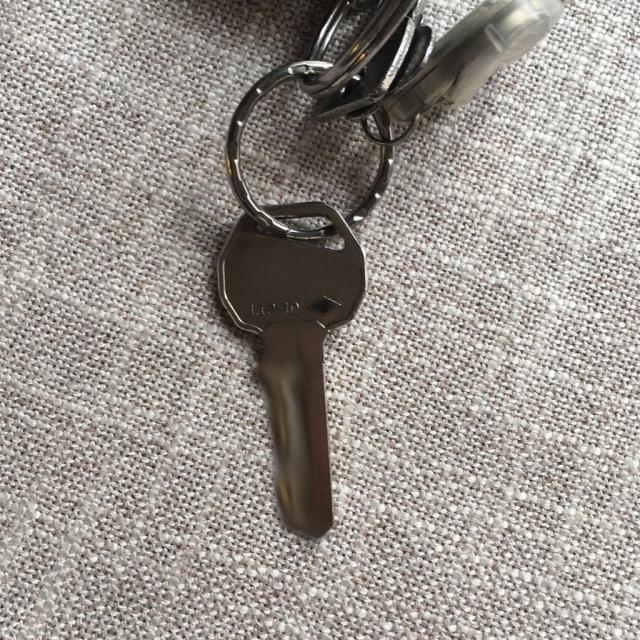Frontdoor keys: (214, 199, 370, 540)
